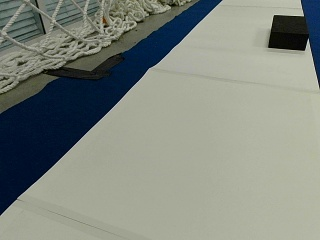block: (268, 14, 307, 50)
